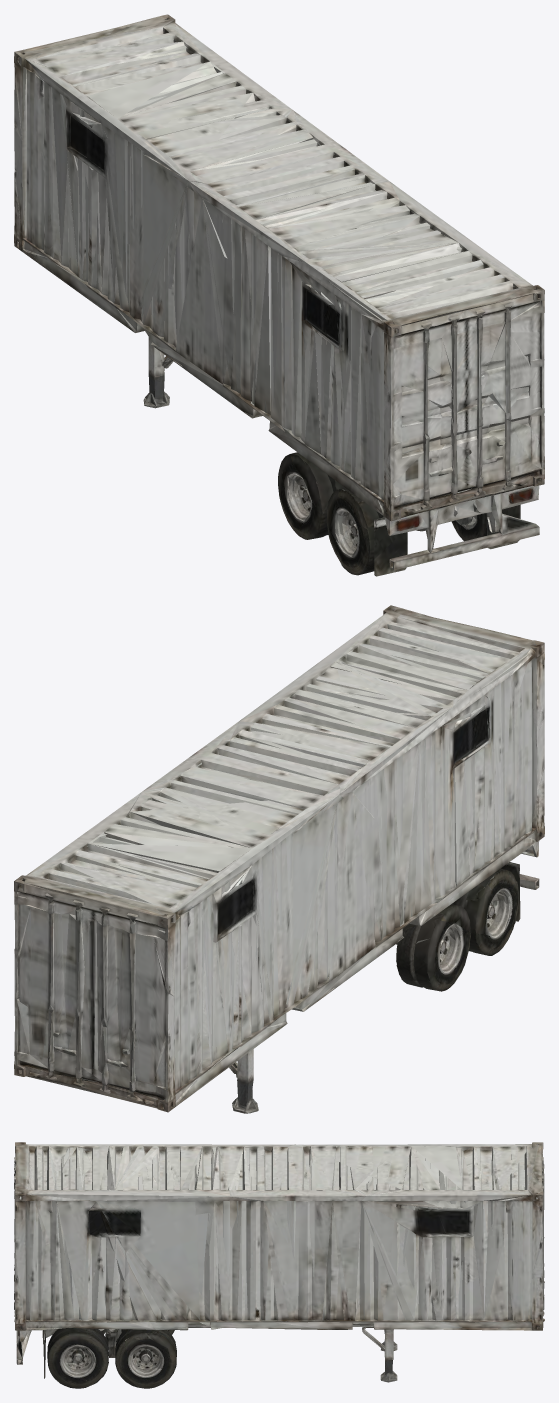
The model's file is Semi_Trailer_Cargo_20.glb.
3 renders of one model, top to bottom at view 1: azimuth 30°, elevation 25°; view 2: azimuth 150°, elevation 25°; view 3: azimuth 270°, elevation 25°, orthographic. The views are drawn at different scales.
Parts seen in each view (by area): view 1: output_unwrapped; view 2: output_unwrapped; view 3: output_unwrapped.
Boxes of the visible parts, x1,y1,x2,y2 form: output_unwrapped: (14, 14, 544, 576); output_unwrapped: (14, 605, 544, 1113); output_unwrapped: (14, 1142, 544, 1388).
Size of the model in its own units: 2.9 by 4.95 by 12.2.
Materials: 1 (1 with a texture image).
